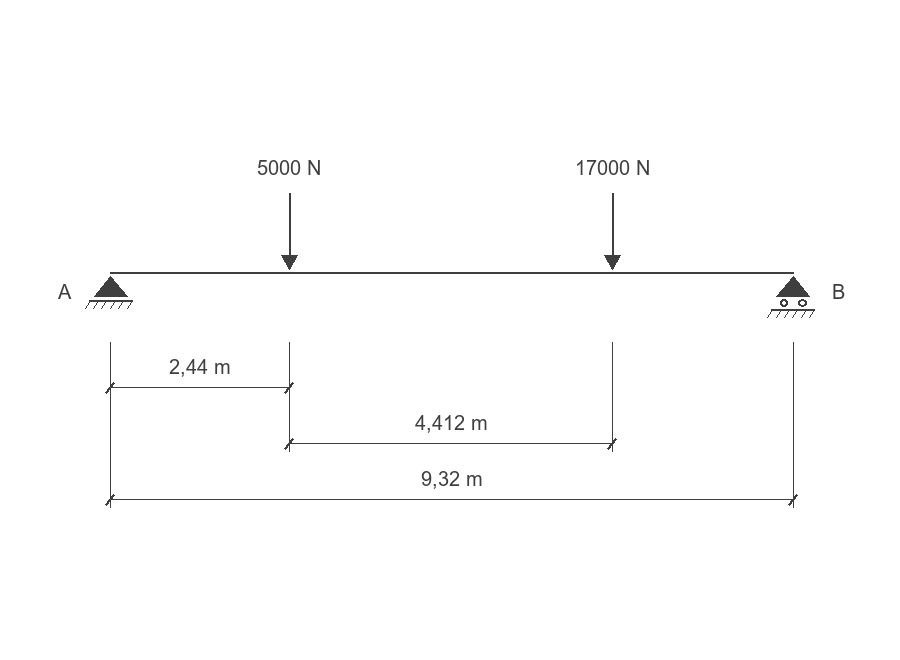pin_support: (85, 276, 133, 309)
point_load: (281, 193, 298, 270), (604, 193, 621, 270)
roller_support: (767, 276, 815, 318)
